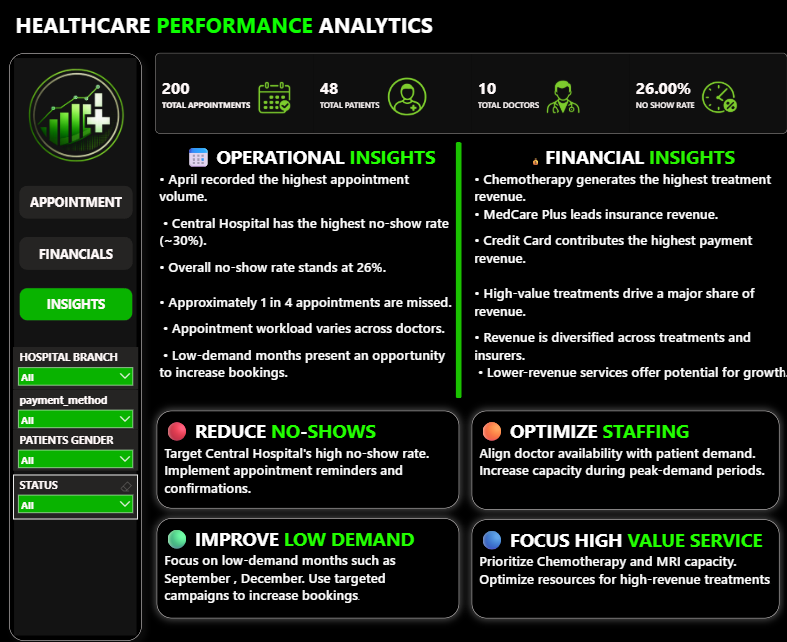

The dashboard page shown, as its layout file describes it:
{"tool":"powerbi","page":{"name":"INSIGHTS","canvas":[1600,1300],"ordinal":2},"visuals":[{"type":"shape","box":[23.3,111.7,265,1175],"z":0},{"type":"image","box":[54,130,202,202],"z":1000},{"type":"pageNavigator","box":[42.5,377.5,227.5,272.5],"z":2000},{"type":"slicer","fields":{"Values":["hospital_db patients.insurance_provider"]},"box":[30,700,250,84],"z":3000},{"type":"slicer","fields":{"Values":["hospital_db billing.payment_method"]},"box":[30,784,250,80],"z":4000},{"type":"slicer","fields":{"Values":["hospital_db patients.gender"]},"box":[30,864,250,82],"z":5000},{"type":"slicer","title":"STATUS","fields":{"Values":["hospital_db billing.payment_status"]},"box":[30,956,250,90],"z":6000},{"type":"textbox","box":[30,20,1278,76],"z":7000},{"type":"cardVisual","fields":{"Data":["Count(hospital_db appointments.appointment_id)","Count(hospital_db appointments.patient_id)","Count(hospital_db appointments.doctor_id)","hospital_db appointments.NO_SHOW_RATE"]},"box":[298,96,1300,195],"z":8000},{"type":"textbox","box":[947.5,290,645,535],"z":9000},{"type":"textbox","box":[317.5,290,605,575],"z":10000},{"type":"textbox","box":[317.5,827.5,605,195],"z":11000},{"type":"textbox","box":[947.5,827.5,615,197.5],"z":12000},{"type":"textbox","box":[317.5,1042.5,605,200],"z":13000},{"type":"textbox","box":[947.5,1045,615,197.5],"z":14000},{"type":"shape","box":[915,290,12.5,512.5],"z":15000},{"type":"image","box":[514,100,72,206],"z":15001},{"type":"image","box":[770,150,96,100],"z":15002},{"type":"image","box":[1092,160,74,82],"z":15003},{"type":"image","box":[1404,150,74,100],"z":15004}]}

Visuals, with their boxes in screenshot pixels (x1, y1, x2, y2), scaled from the page's 1600x1300 canvas onto the 787x642 screenshot:
shape: select_region(11, 55, 142, 635)
image: select_region(27, 64, 126, 164)
pageNavigator: select_region(21, 186, 133, 321)
slicer - hospital_db patients.insurance_provider: select_region(15, 346, 138, 387)
slicer - hospital_db billing.payment_method: select_region(15, 387, 138, 427)
slicer - hospital_db patients.gender: select_region(15, 427, 138, 467)
"STATUS" slicer: select_region(15, 472, 138, 517)
textbox: select_region(15, 10, 643, 47)
cardVisual - Count(hospital_db appointments.appointment_id) x Count(hospital_db appointments.patient_id): select_region(147, 47, 786, 144)
textbox: select_region(466, 143, 783, 407)
textbox: select_region(156, 143, 454, 427)
textbox: select_region(156, 409, 454, 505)
textbox: select_region(466, 409, 769, 506)
textbox: select_region(156, 515, 454, 614)
textbox: select_region(466, 516, 769, 614)
shape: select_region(450, 143, 456, 396)
image: select_region(253, 49, 288, 151)
image: select_region(379, 74, 426, 123)
image: select_region(537, 79, 574, 120)
image: select_region(691, 74, 727, 123)
